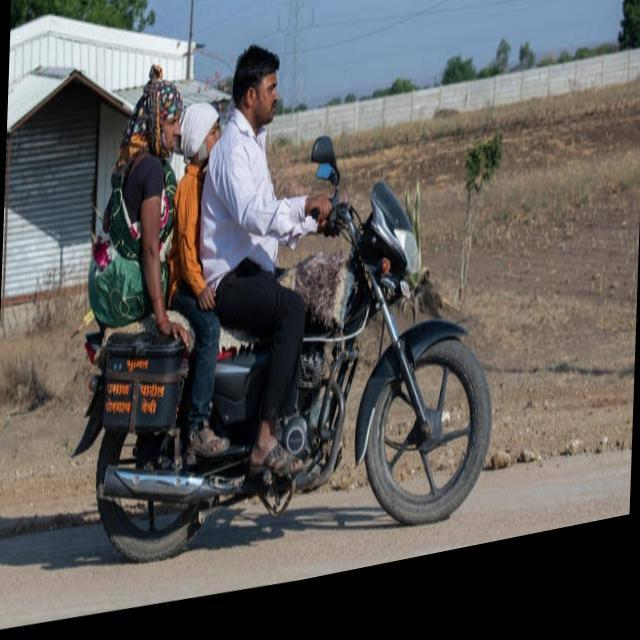Nonhelmet: (228, 36, 288, 135)
